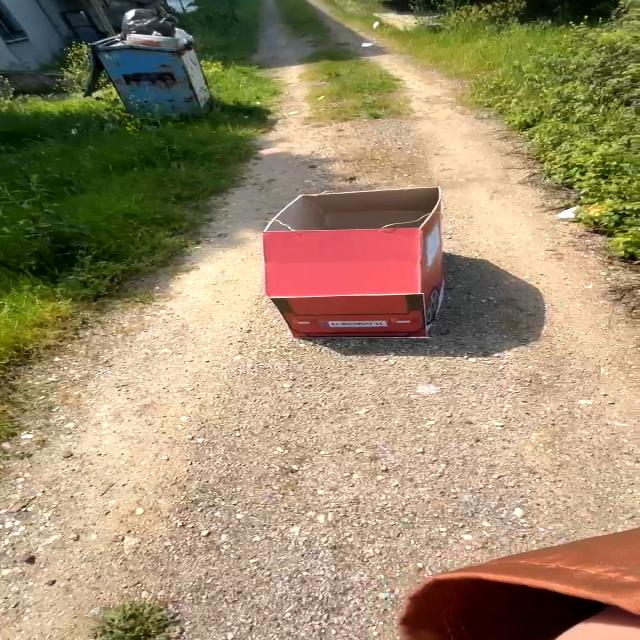red_car: (238, 175, 492, 355)
